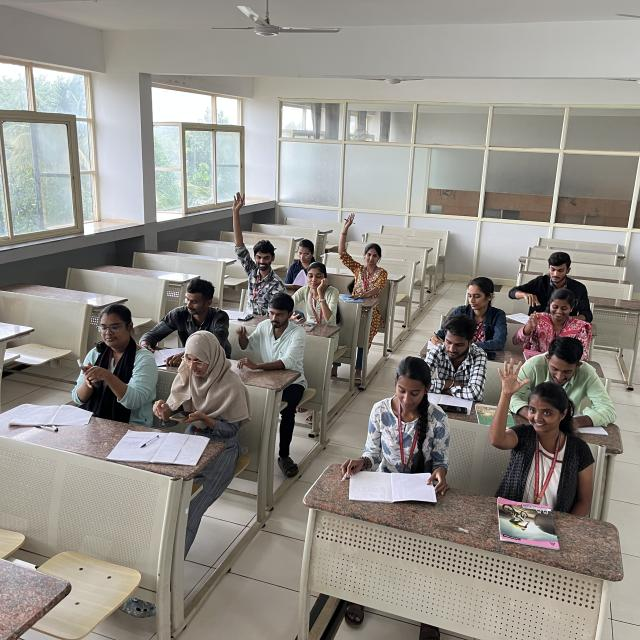Hand Rising: (487, 356, 595, 485), (232, 190, 280, 301), (337, 212, 386, 294)
Reading: (368, 355, 444, 488), (425, 312, 484, 404), (284, 238, 324, 290)
Using Phone: (160, 332, 248, 430), (73, 306, 148, 406), (294, 264, 338, 326)
Writing: (140, 276, 224, 365), (425, 277, 503, 350)
